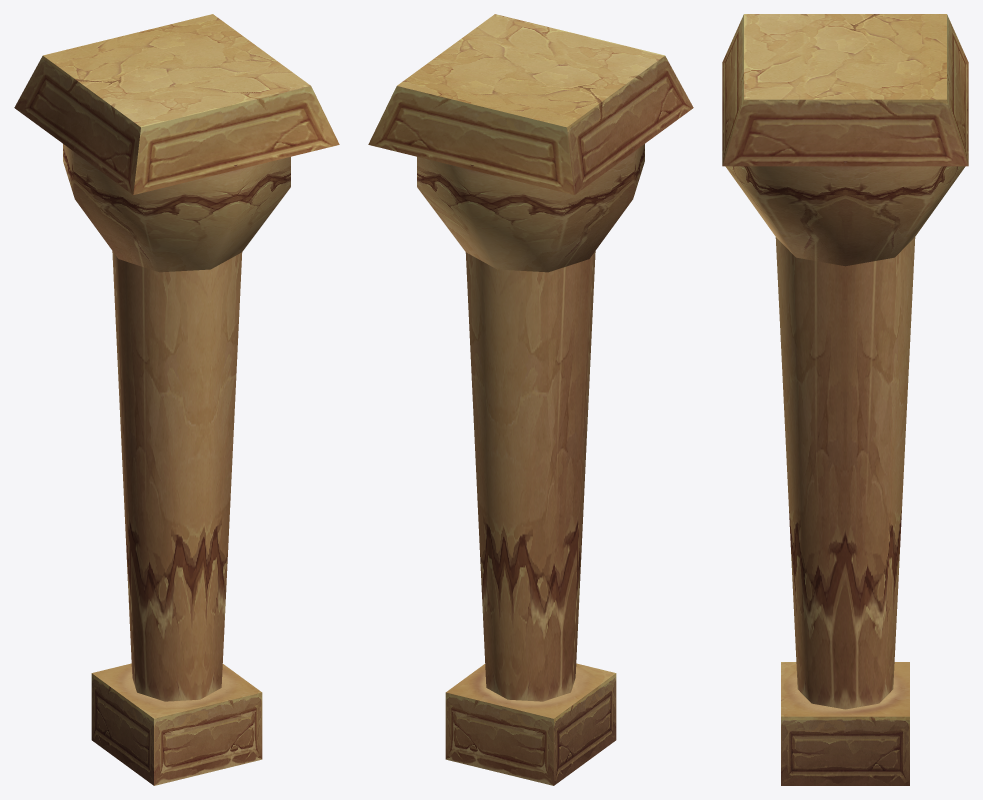
File: shamozhidu_zhuzi1.FBX
3 views of the same model, side by side, from view 1: azimuth 30°, elevation 25°; view 2: azimuth 150°, elevation 25°; view 3: azimuth 270°, elevation 25° (orthographic). The views are drawn at different scales.
Visible parts, largest first — view 1: sukelateshamo_pingtai01_yuanzhu01; view 2: sukelateshamo_pingtai01_yuanzhu01; view 3: sukelateshamo_pingtai01_yuanzhu01.
Boxes of the visible parts, left/top/right/bottom form: sukelateshamo_pingtai01_yuanzhu01: left=14, top=14, right=339, bottom=785; sukelateshamo_pingtai01_yuanzhu01: left=368, top=14, right=693, bottom=785; sukelateshamo_pingtai01_yuanzhu01: left=722, top=14, right=968, bottom=785.
Size of the model in its own units: 122 by 385 by 122.
Materials: 1 (1 with a texture image).
